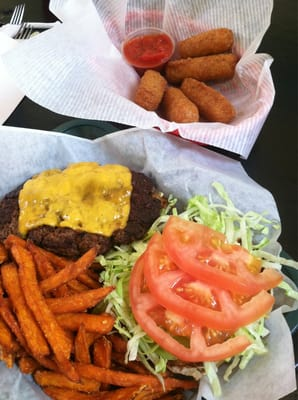sandwich: (2, 87, 255, 165)
